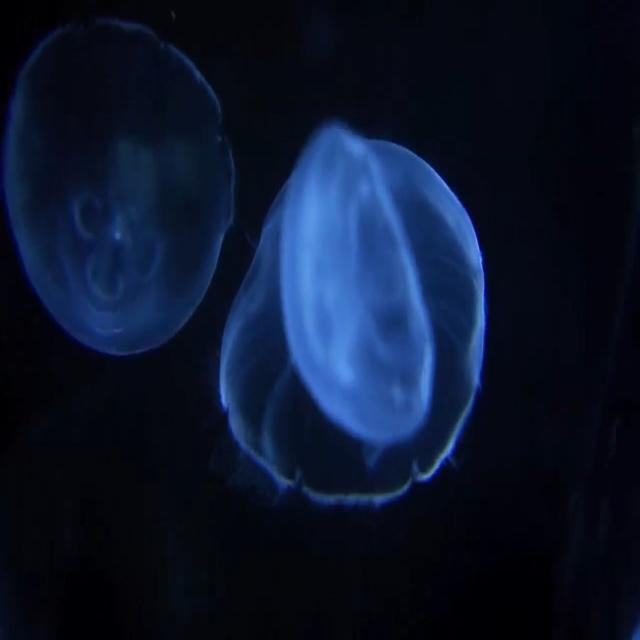Moon-jellyfish: (218, 122, 488, 513), (0, 18, 238, 360)
